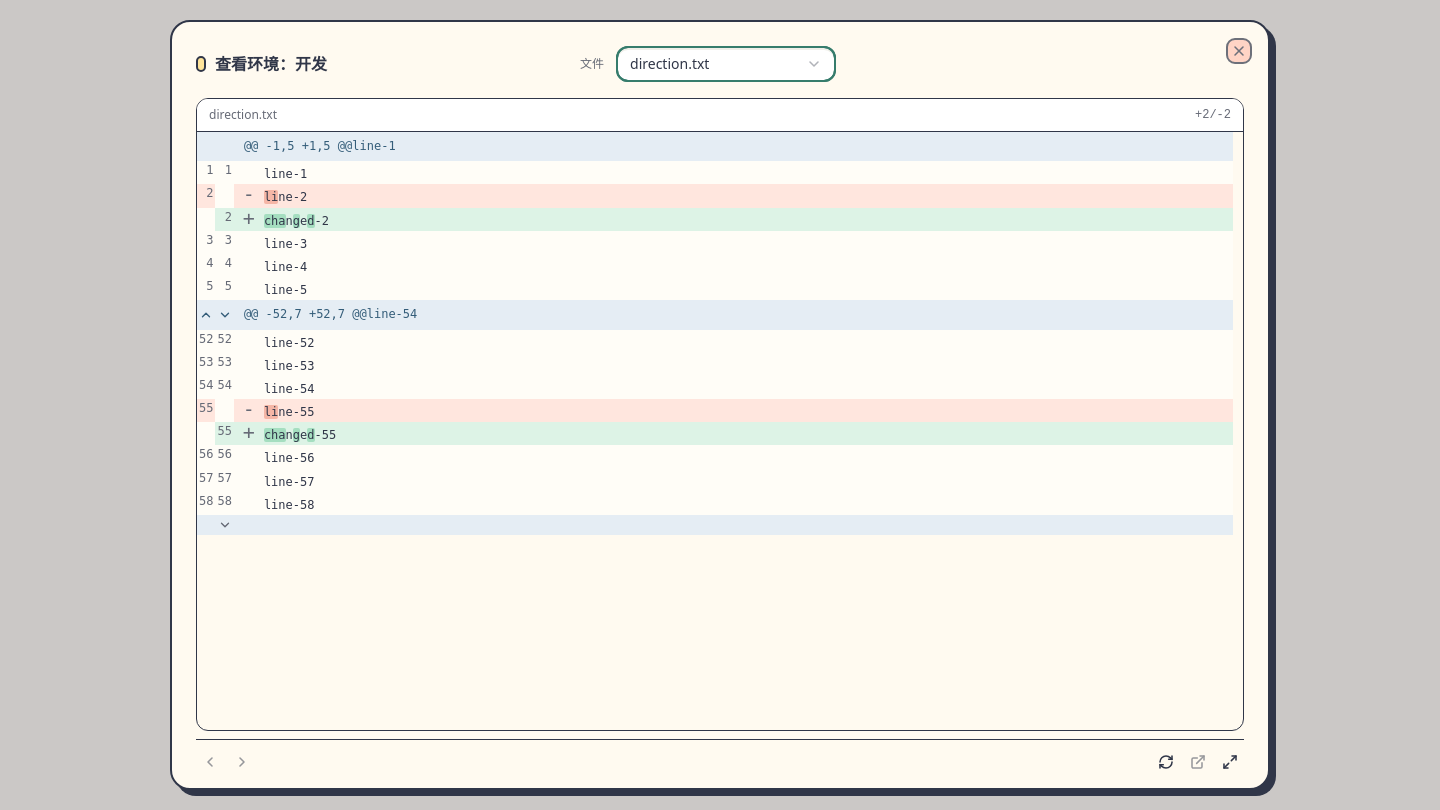
Scenario: EnvironmentDiffDialog › expands an inter-hunk gap toward the correct boundary
This screenshot has width=1440, height=810.
What coordinates should you click on to do the following:
click the button named "向上展开10行"
I would click on:
 (206, 315)
Its box is [197,305,215,325].
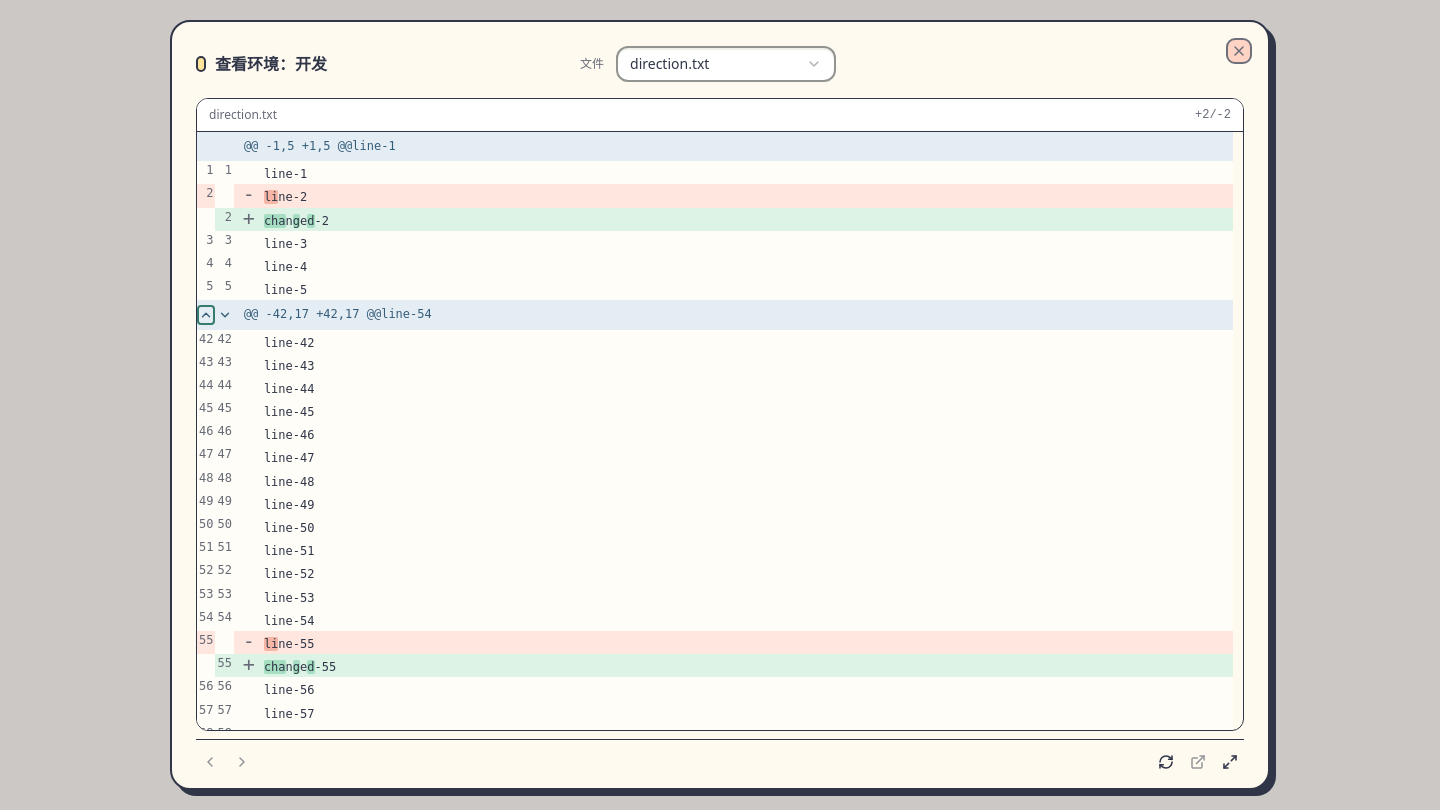
Expected: the row with test id "environment-diff-hunk-header" reads "@@ -1,5 +1,5 @@ line-1", [197,132,1233,161]
Expected: the row with test id "environment-diff-hunk-header" reads "@@ -42,17 +42,17 @@ line-54", [197,300,1233,330]
What coordinates should you click on to do the following:
click the button named "向下展开10行"
I would click on:
 (225, 315)
Its box is [215,305,234,325].
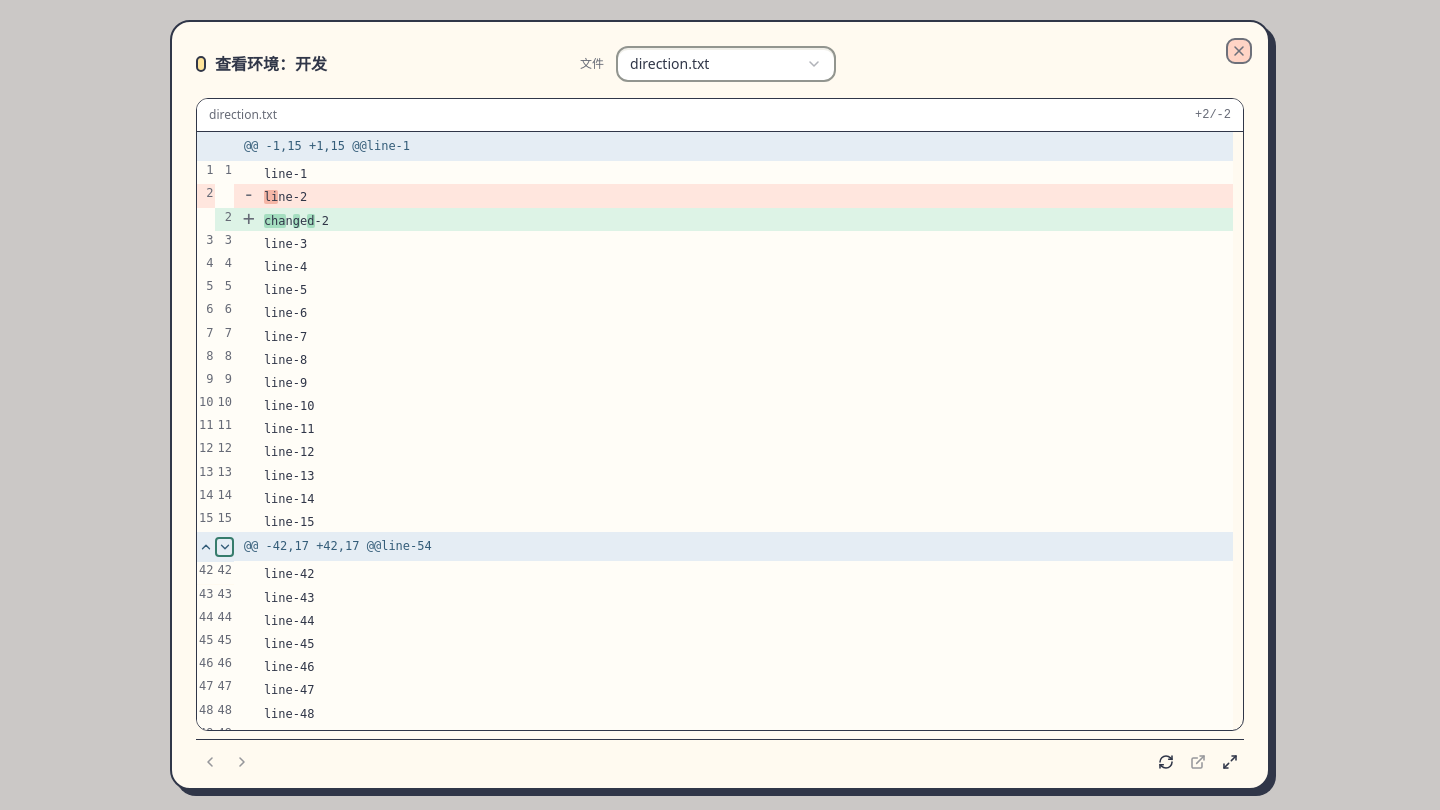
Expected: the row with test id "environment-diff-hunk-header" reads "@@ -42,17 +42,17 @@ line-54", [197,532,1233,561]
Expected: the row with test id "environment-diff-hunk-header" reads "@@ -1,15 +1,15 @@ line-1", [197,132,1233,161]
